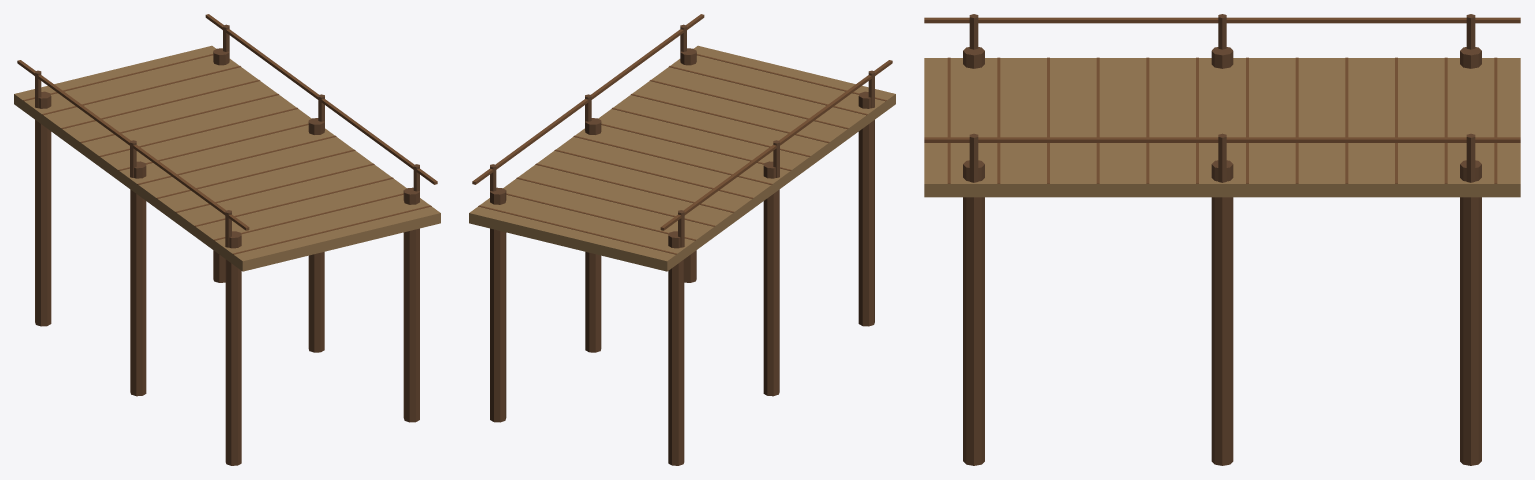
The model's file is pier.glb.
3 renders of one model, left to right at view 1: azimuth 30°, elevation 25°; view 2: azimuth 150°, elevation 25°; view 3: azimuth 270°, elevation 25°, orthographic. The views are drawn at different scales.
Parts seen in each view (by area): view 1: pier_Body; view 2: pier_Body; view 3: pier_Body.
Boxes of the visible parts, x1,y1,x2,y2 form: pier_Body: [14, 14, 440, 465]; pier_Body: [469, 14, 895, 465]; pier_Body: [924, 14, 1520, 465].
Size of the model in its own units: 6 by 7.3 by 12.
